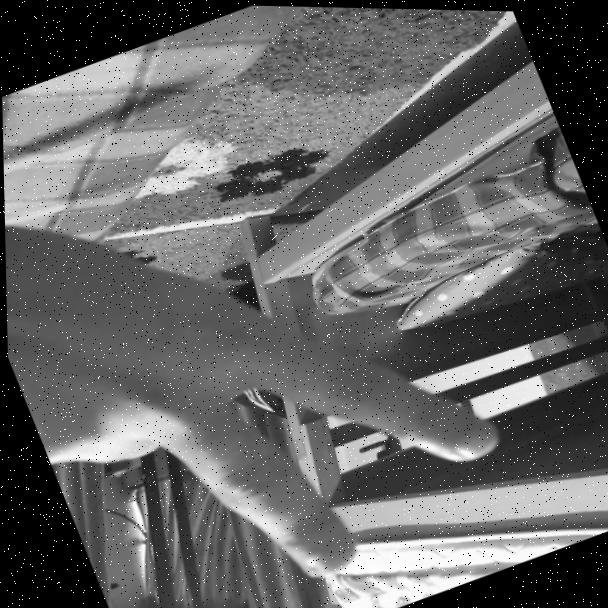two: (2, 137, 523, 608)
